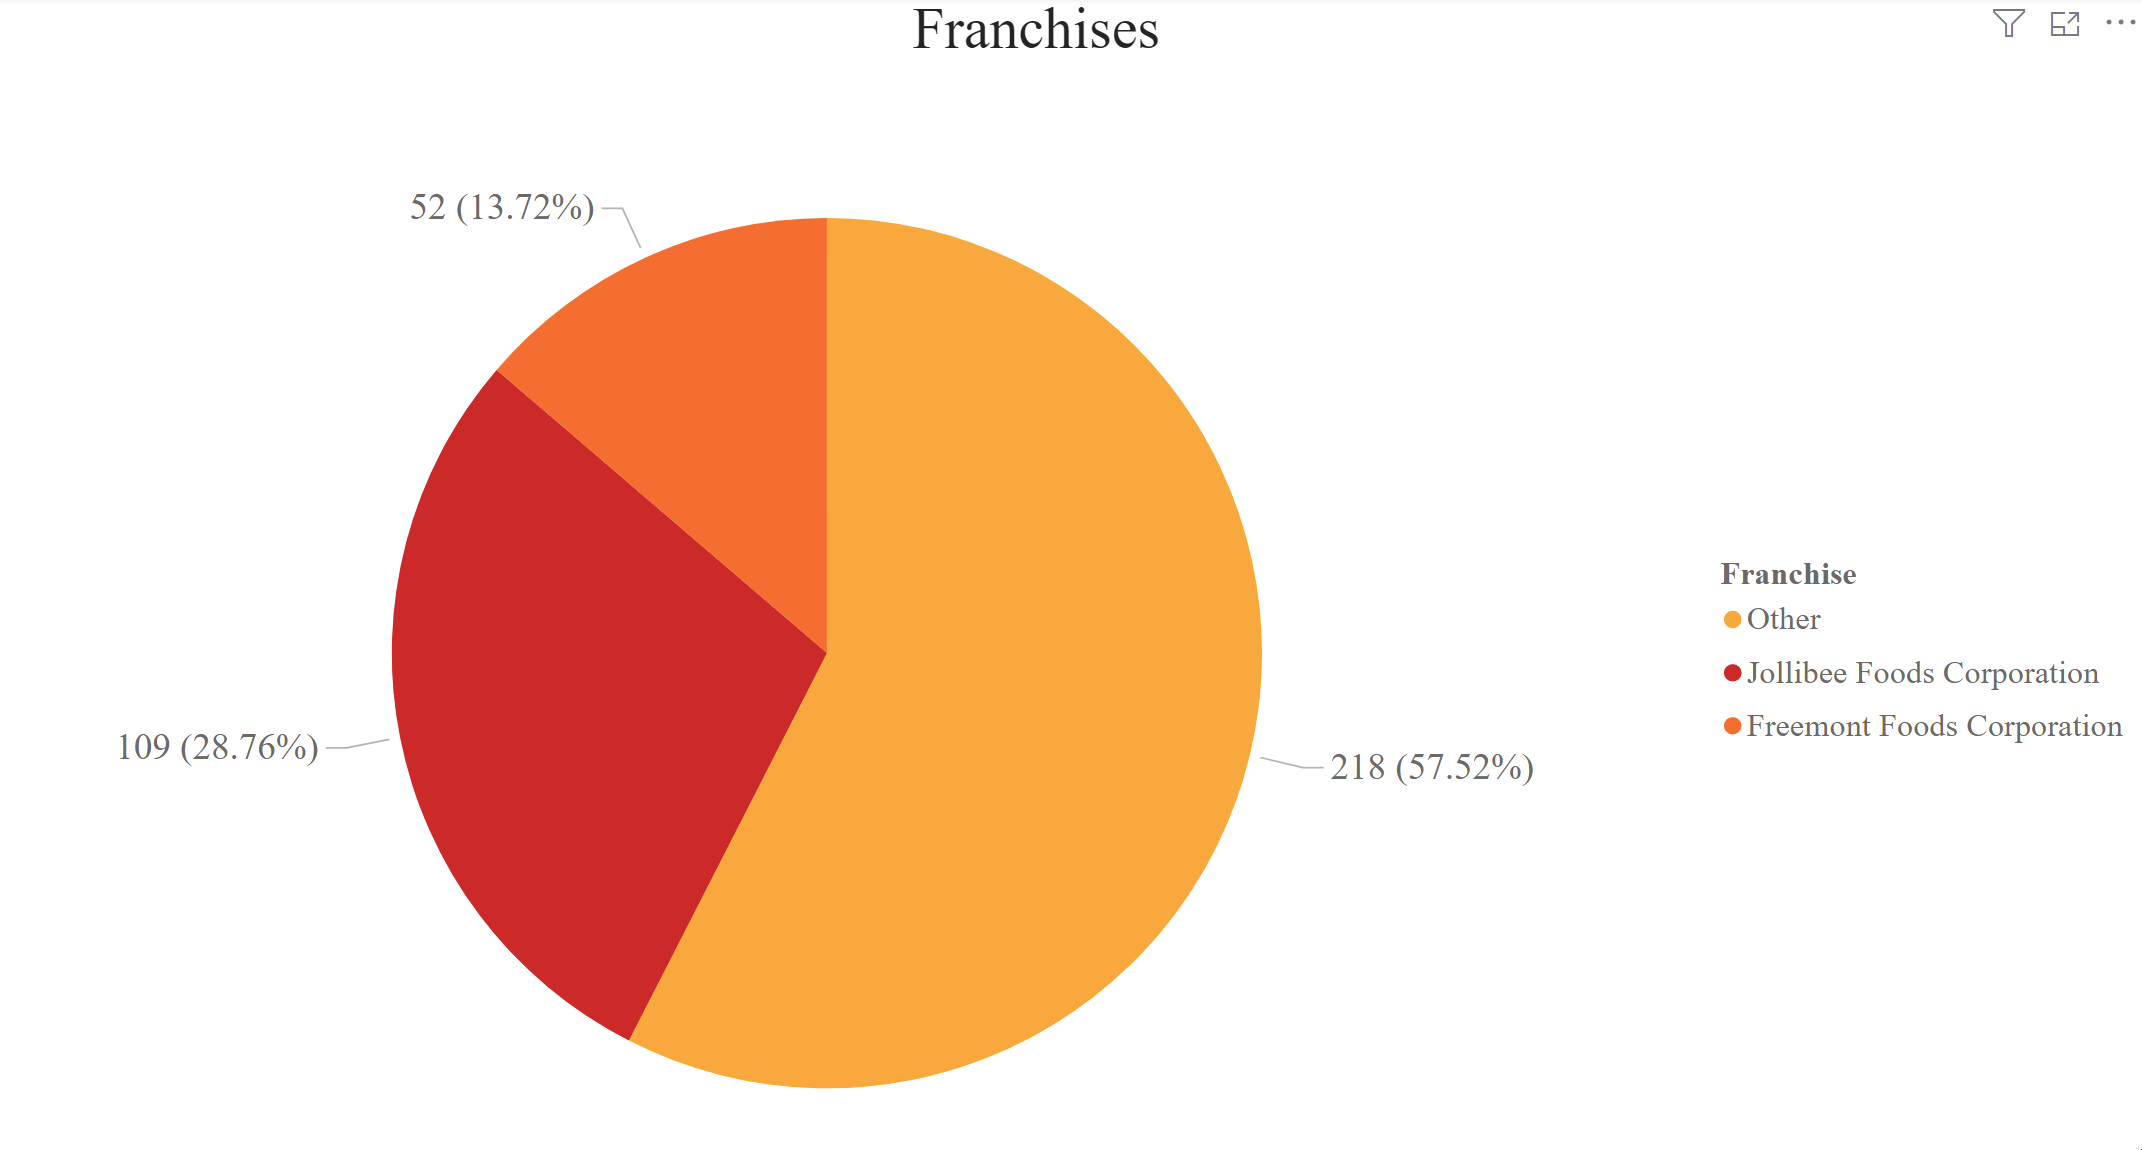

The dashboard page shown, as its layout file describes it:
{"tool":"powerbi","page":{"name":"Franchise","canvas":[1280,720],"ordinal":2},"visuals":[{"type":"pieChart","title":"Franchises","fields":{"Y":["CountNonNull(jollibee.storeId)"],"Category":["jollibee.franchiseNm (groups)"]},"box":[0,0,1280,720.3],"z":1}]}

Visuals, with their boxes on the page's 1280x720 design canvas (x1, y1, x2, y2). These are canvas units, not pixel positions in the 2142x1150 screenshot, which may show the page scaled, cropped or inside an application window:
"Franchises" pieChart: region(0, 0, 1280, 720)
